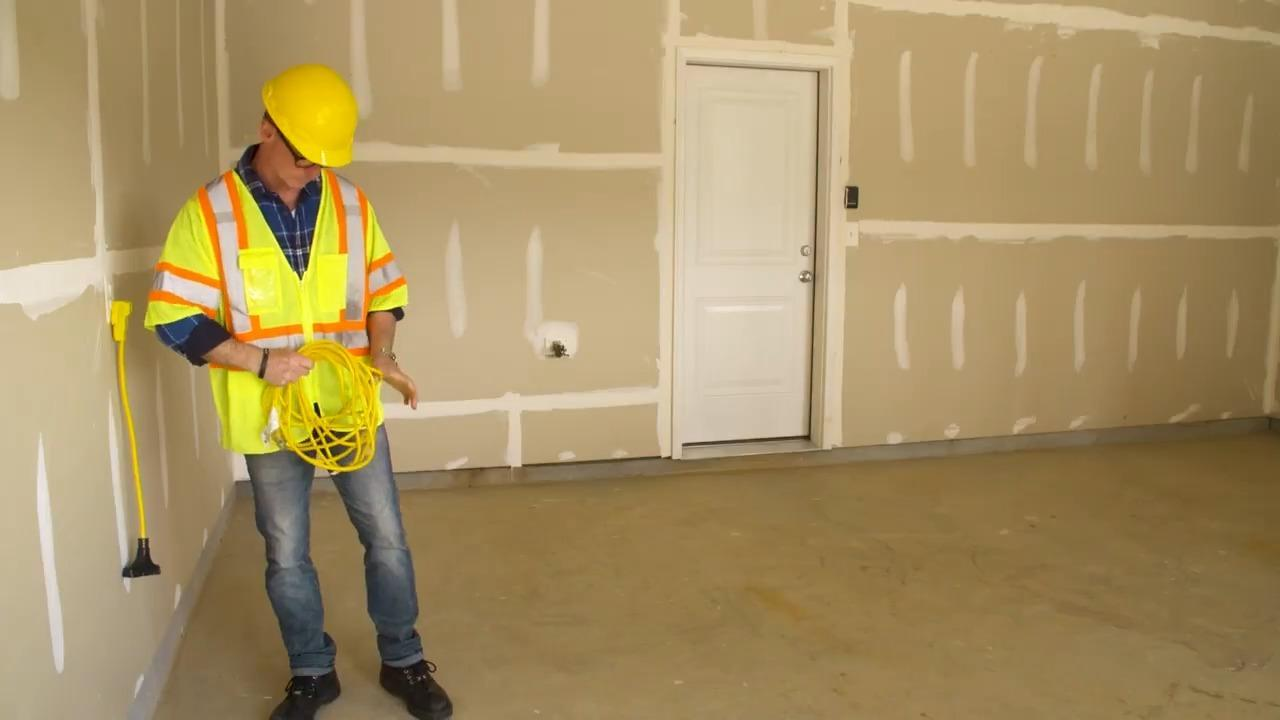Helmet: (260, 64, 360, 166)
Person: (144, 65, 453, 720)
Safety Boot: (372, 651, 466, 720), (274, 663, 344, 716)
Safety Vest: (198, 187, 397, 431)
bare-arms: (250, 334, 309, 389), (369, 347, 424, 406)
